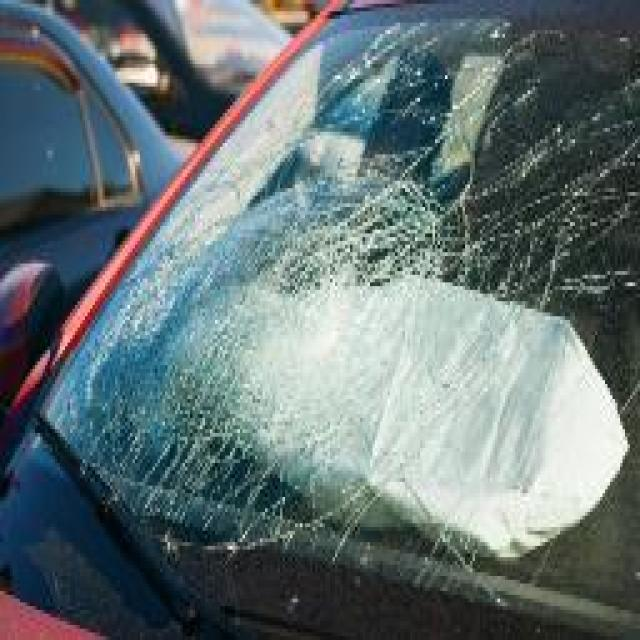Windshield: (82, 34, 640, 614)
